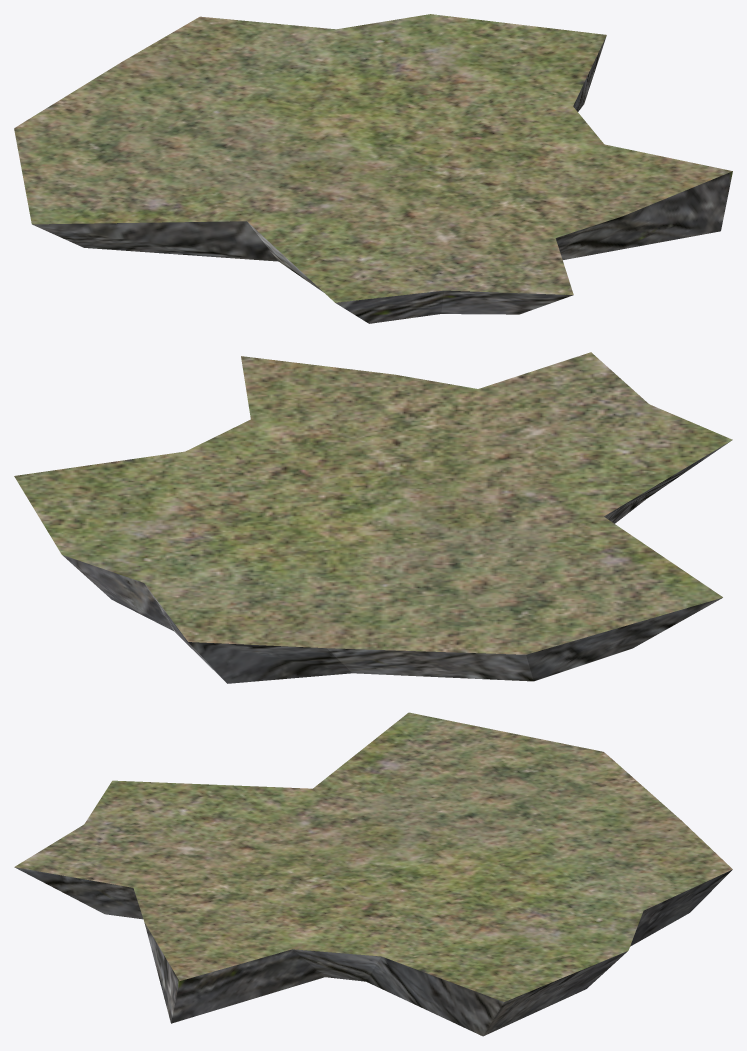
File: playground Ground.fbx
3 renders of one model, top to bottom at view 1: azimuth 30°, elevation 25°; view 2: azimuth 150°, elevation 25°; view 3: azimuth 270°, elevation 25°, orthographic. The views are drawn at different scales.
Visible parts, largest first — view 1: Cube; view 2: Cube; view 3: Cube.
Part boxes in pixels (<box>): Cube: <box>14,14,732,323</box>; Cube: <box>14,352,732,683</box>; Cube: <box>14,712,732,1036</box>.
Size of the model in its own units: 15371 by 1241 by 16124.
